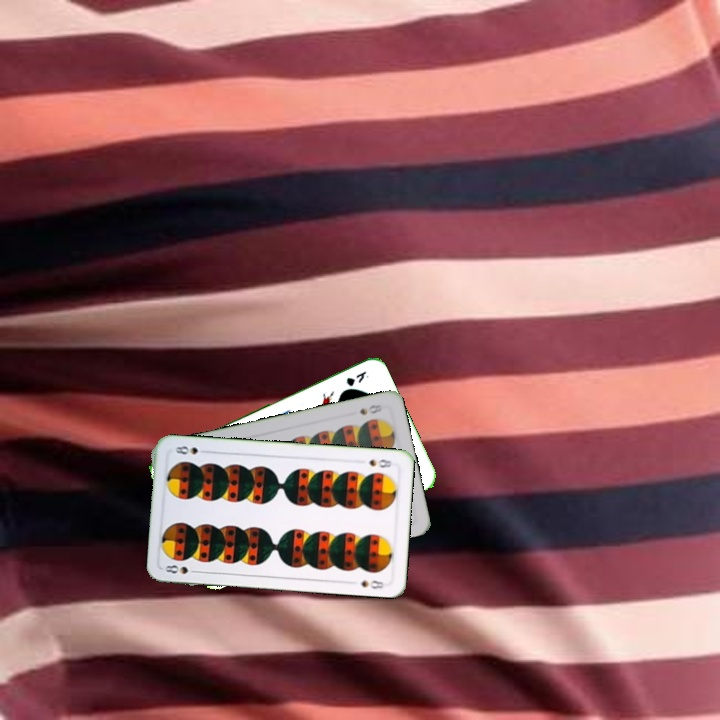GK: (342, 367, 371, 389)
S8: (161, 561, 202, 577), (365, 455, 398, 471), (355, 400, 384, 418)
